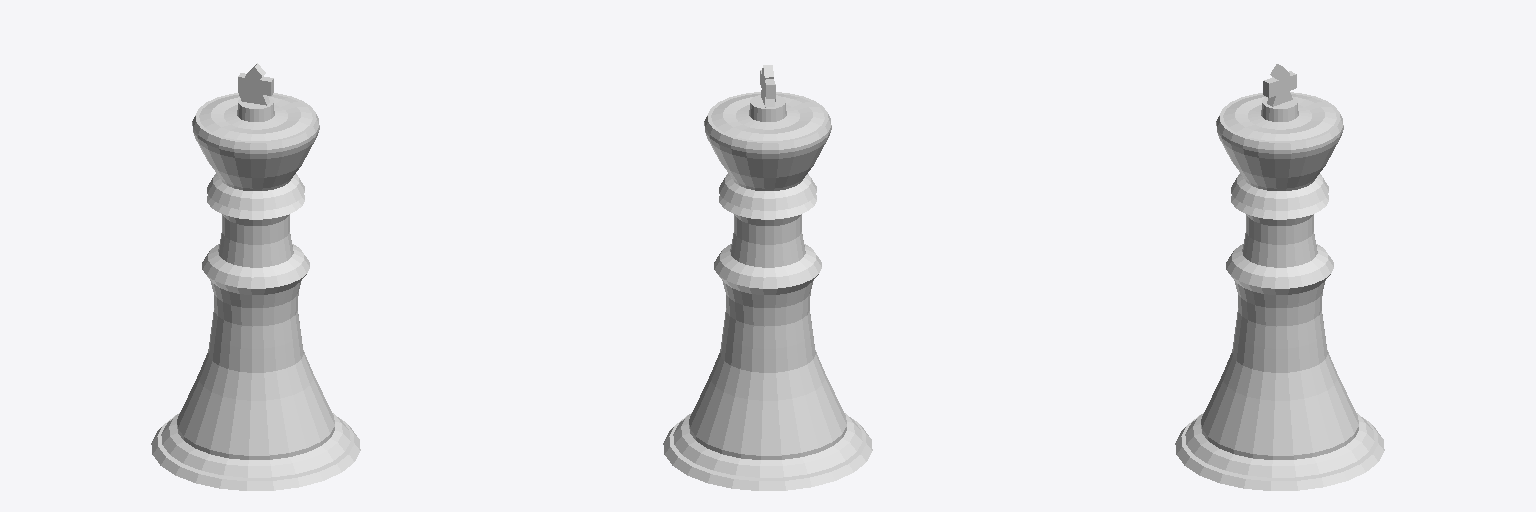
The picture shows the model from 3 angles: view 1: azimuth 30°, elevation 25°; view 2: azimuth 150°, elevation 25°; view 3: azimuth 270°, elevation 25°; orthographic projection.
Visible parts, largest first — view 1: Mesh1 Chess_king1 Model, Mesh2 Chess_king1 Model; view 2: Mesh1 Chess_king1 Model, Mesh2 Chess_king1 Model; view 3: Mesh1 Chess_king1 Model, Mesh2 Chess_king1 Model.
Part boxes in pixels (x1,y1,x2,y2): Mesh1 Chess_king1 Model: (151,93,360,490); Mesh2 Chess_king1 Model: (238,63,273,105); Mesh1 Chess_king1 Model: (663,92,872,490); Mesh2 Chess_king1 Model: (760,65,775,107); Mesh1 Chess_king1 Model: (1175,92,1384,490); Mesh2 Chess_king1 Model: (1263,64,1296,106).
Bounding box in the file's own units: 85.48 × 172 × 85.48.